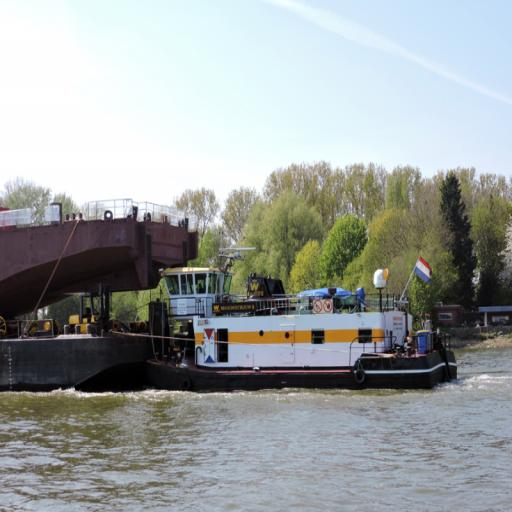tugboat: (144, 256, 463, 401)
